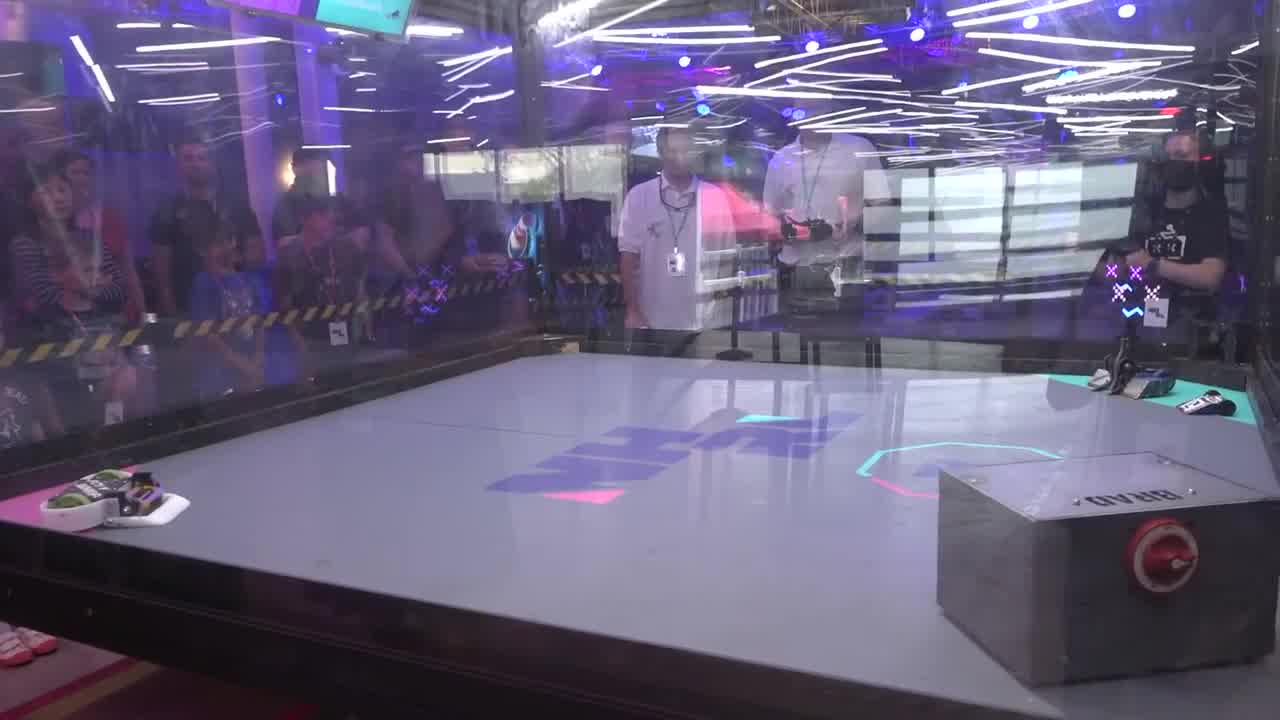combatbot: (42, 467, 166, 530), (1085, 341, 1177, 399)
housebot: (936, 450, 1280, 687)
minibot: (1178, 391, 1236, 418)
